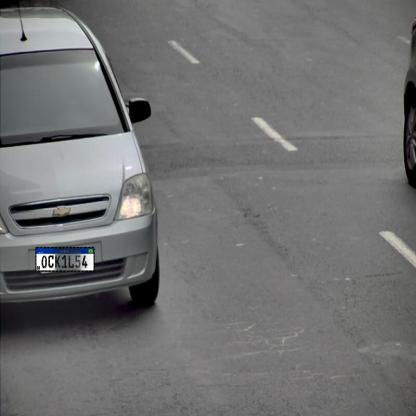PlacaM: (35, 247, 95, 272)
